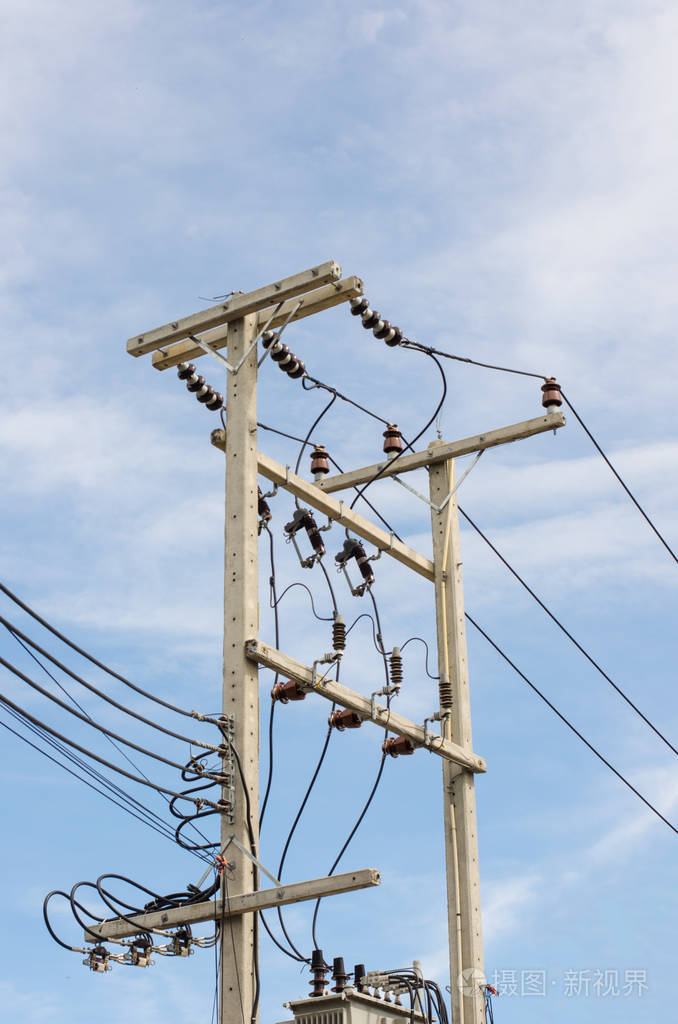insulator: (349, 298, 402, 345), (182, 360, 222, 408), (264, 331, 303, 378)
